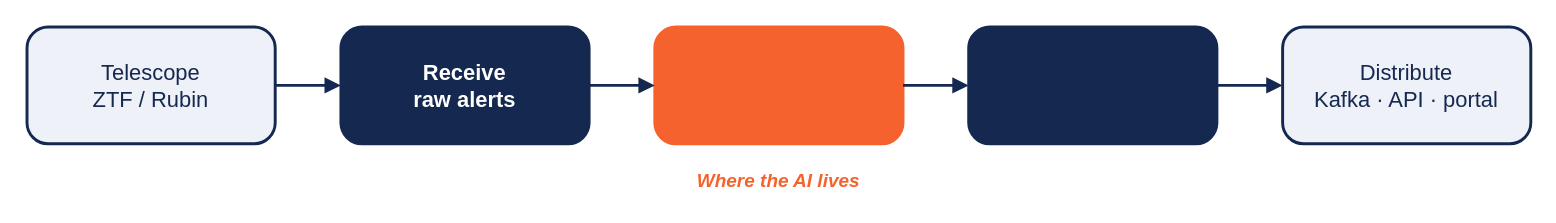
Some shapes in this 1556 by 223 pixel diagram are drawn without their labels. The box of each missing label's shape, as (x1, y1, x2, y2) in pixels:
Enrich cross-match + science modules: (653, 25, 904, 145)
Filter user-defined: (967, 25, 1218, 145)
